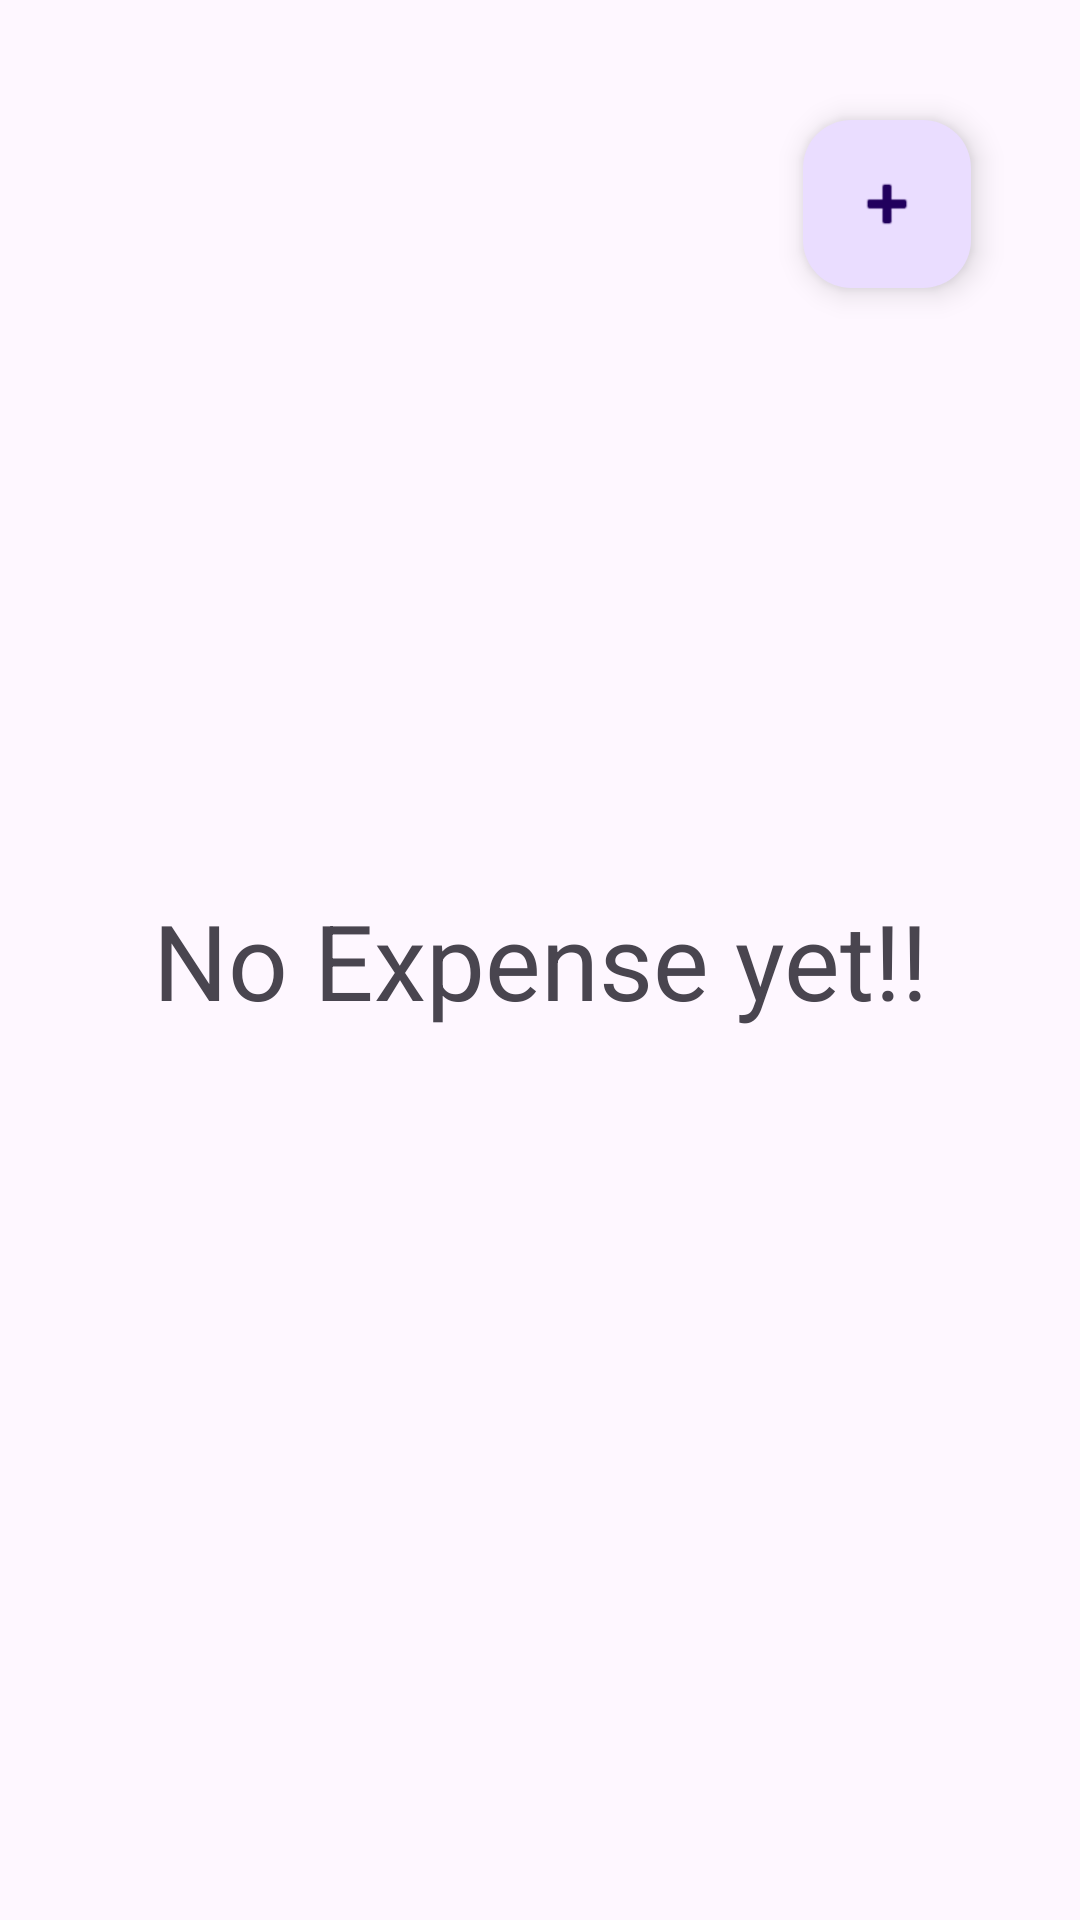

Screen size 1080w x 1920h. Icon name, then its center in pixels as point (x, y):
add: point (887, 204)
